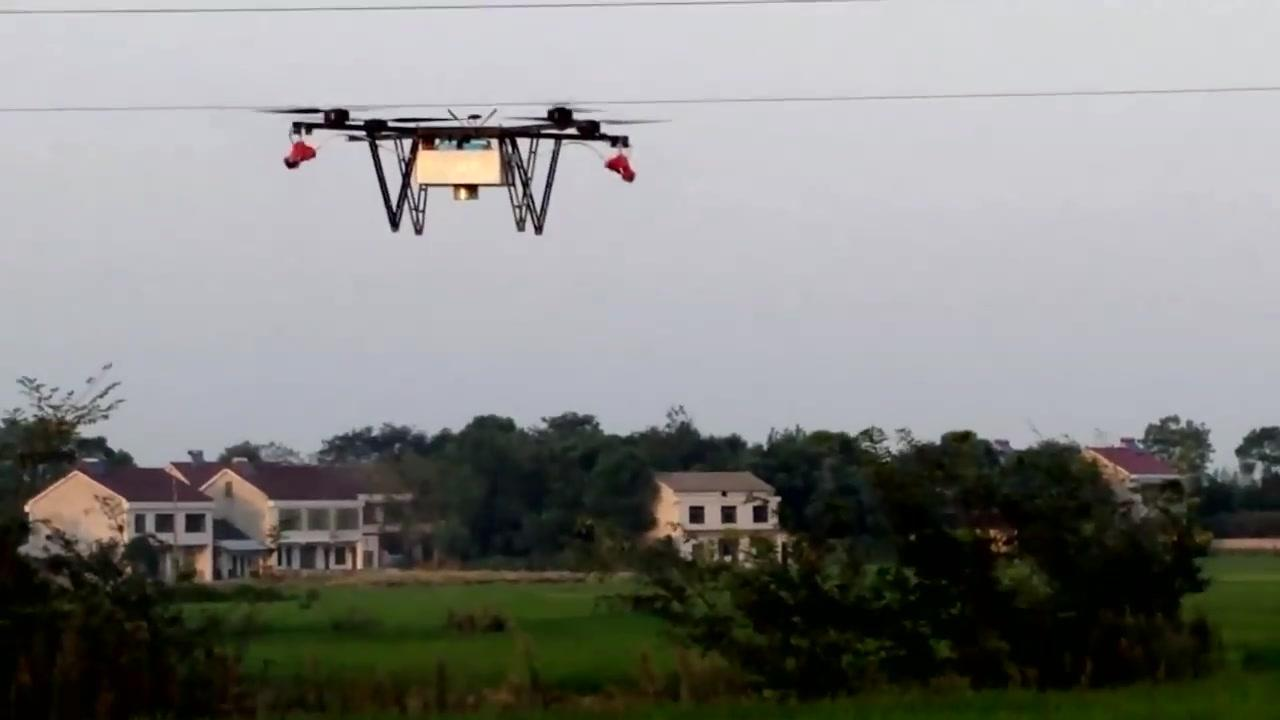UAV: (248, 101, 674, 236)
